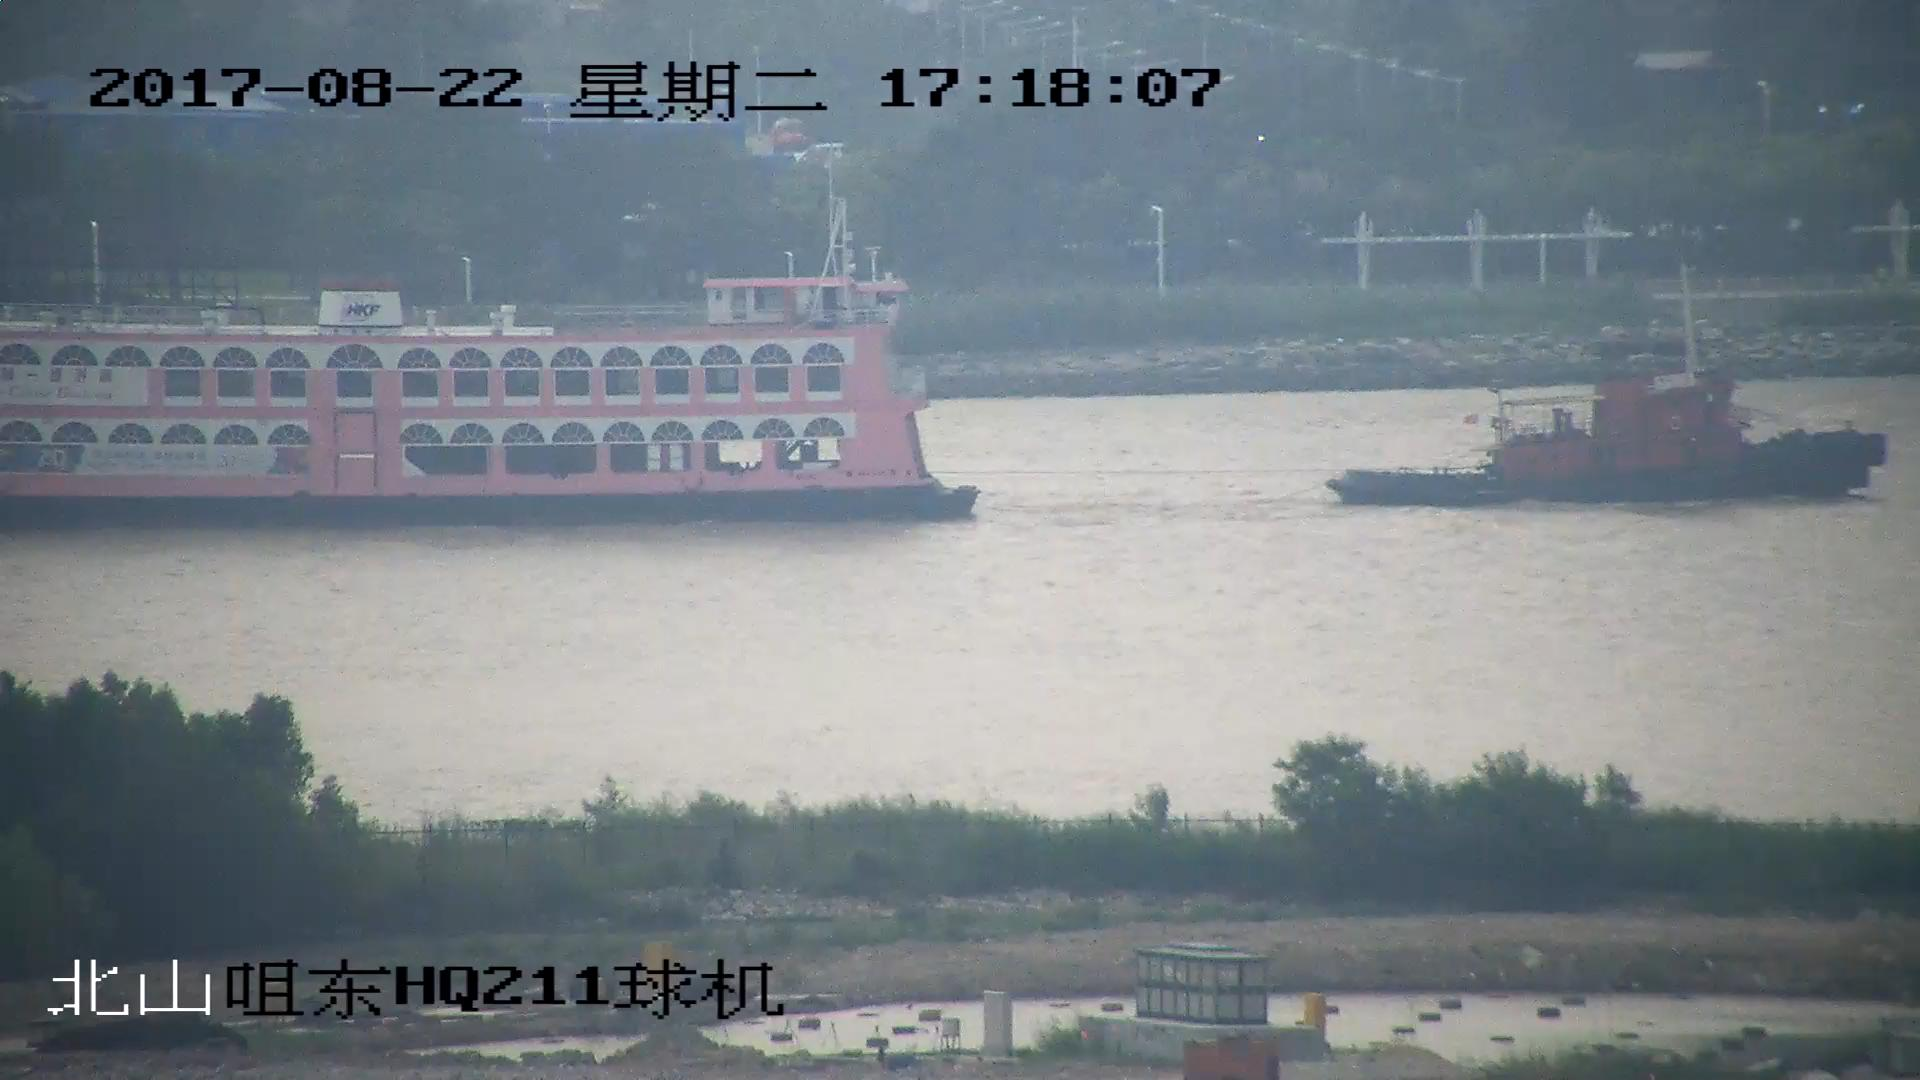fishing boat: (1324, 261, 1890, 505)
passenger ship: (1, 156, 984, 523)
